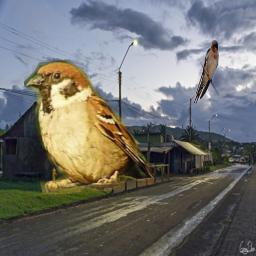Sparrow: (24, 60, 154, 194)
Swallow: (194, 40, 219, 104)
